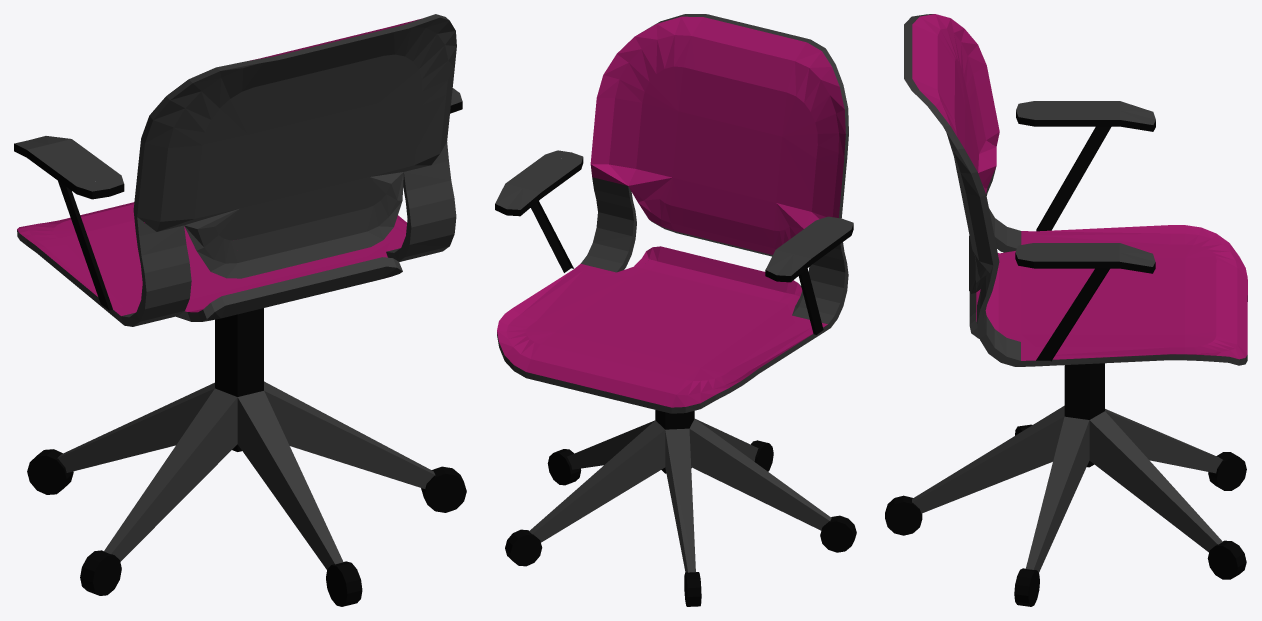
File: chair1.fbx
3 renders of one model, left to right at view 1: azimuth 30°, elevation 25°; view 2: azimuth 150°, elevation 25°; view 3: azimuth 270°, elevation 25°, orthographic. The views are drawn at different scales.
Visible parts, largest first — view 1: Chair15; view 2: Chair15; view 3: Chair15.
Part boxes in pixels (box(x1,y1,x2,y2)): Chair15: box(14, 14, 466, 606); Chair15: box(495, 14, 856, 606); Chair15: box(885, 14, 1247, 606).
Bounding box in the file's own units: 0.8936 × 0.8518 × 1.25.
